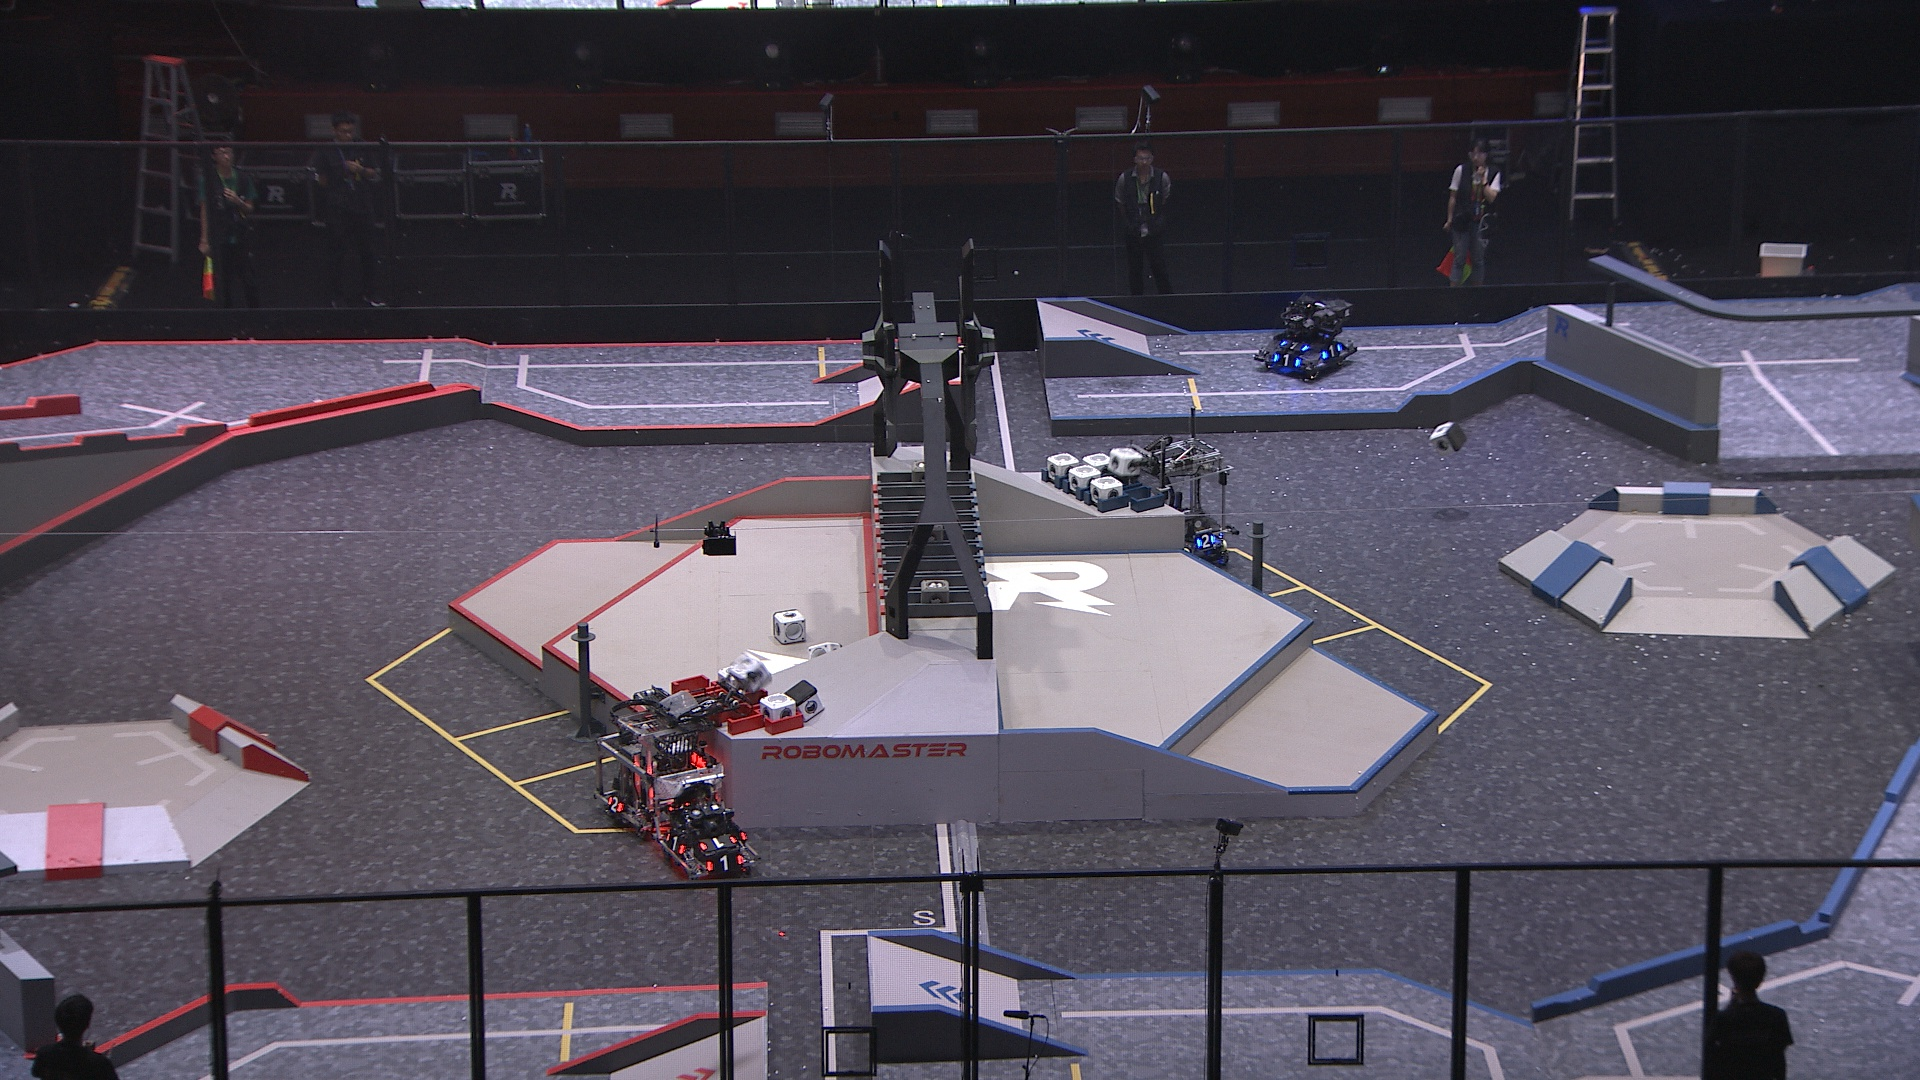armor: (703, 855, 746, 873), (698, 836, 736, 851), (1191, 531, 1218, 550), (665, 832, 686, 856), (1278, 339, 1311, 353), (1273, 353, 1302, 368), (1320, 343, 1342, 361), (607, 794, 626, 814)
car: (591, 688, 721, 840), (1122, 436, 1238, 567), (650, 765, 761, 880), (1253, 291, 1358, 381)
